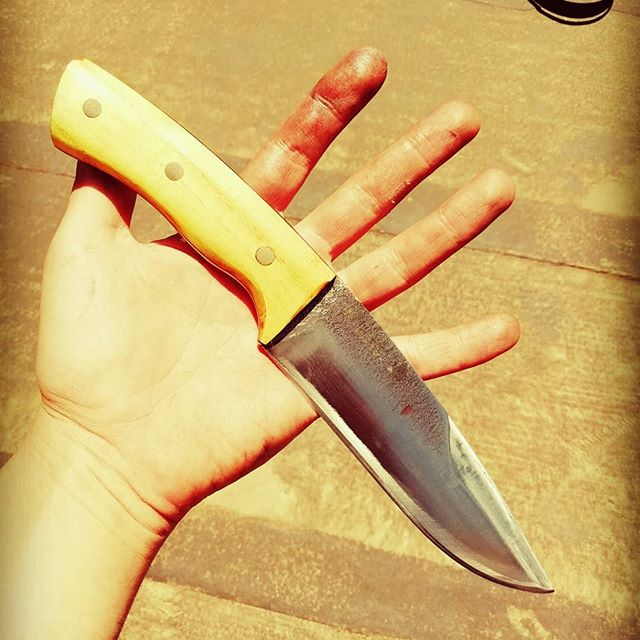knife: (49, 58, 556, 595)
